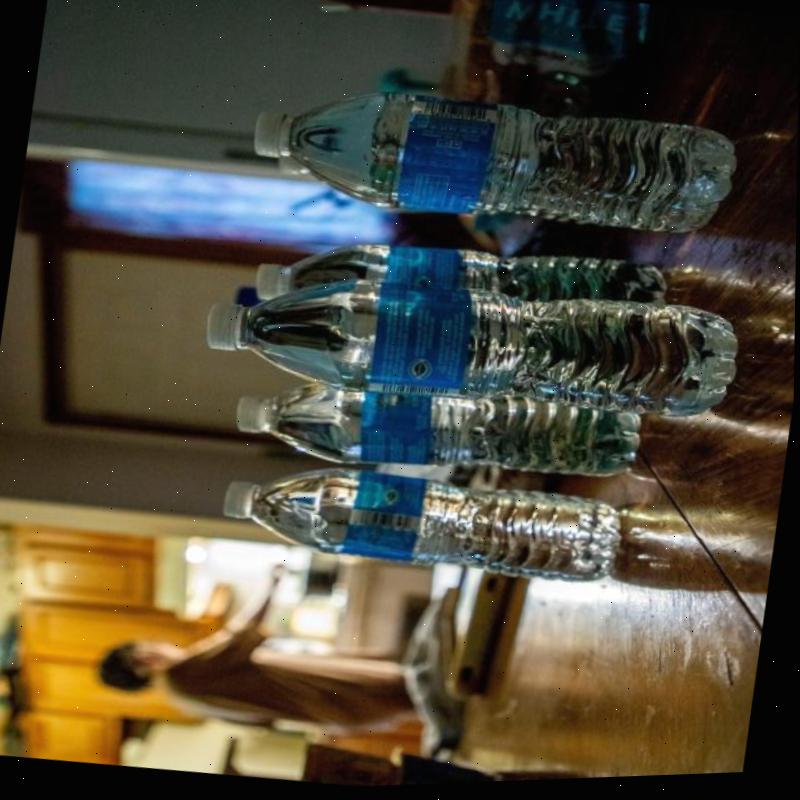botella: (198, 248, 749, 445), (243, 69, 737, 261), (218, 451, 630, 604), (230, 367, 644, 507), (252, 217, 672, 351)
